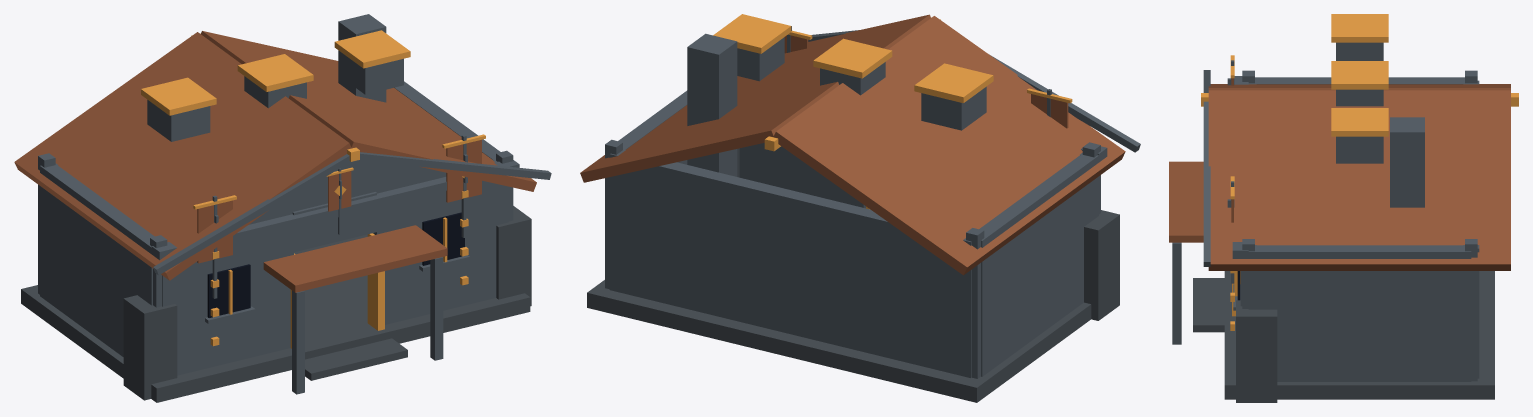
The model's file is hall_dwarf_lv2.glb.
The picture shows the model from 3 angles, left to right: view 1: azimuth 30°, elevation 25°; view 2: azimuth 150°, elevation 25°; view 3: azimuth 270°, elevation 25°; orthographic projection. The views are drawn at different scales.
Visible parts, largest first — view 1: hall_dwarf_lv2; view 2: hall_dwarf_lv2; view 3: hall_dwarf_lv2.
Boxes of the visible parts, x1,y1,x2,y2 form: hall_dwarf_lv2: (14,14,551,402); hall_dwarf_lv2: (580,14,1140,402); hall_dwarf_lv2: (1169,14,1518,402).
Bounding box in the file's own units: 28.54 × 16.5 × 22.
